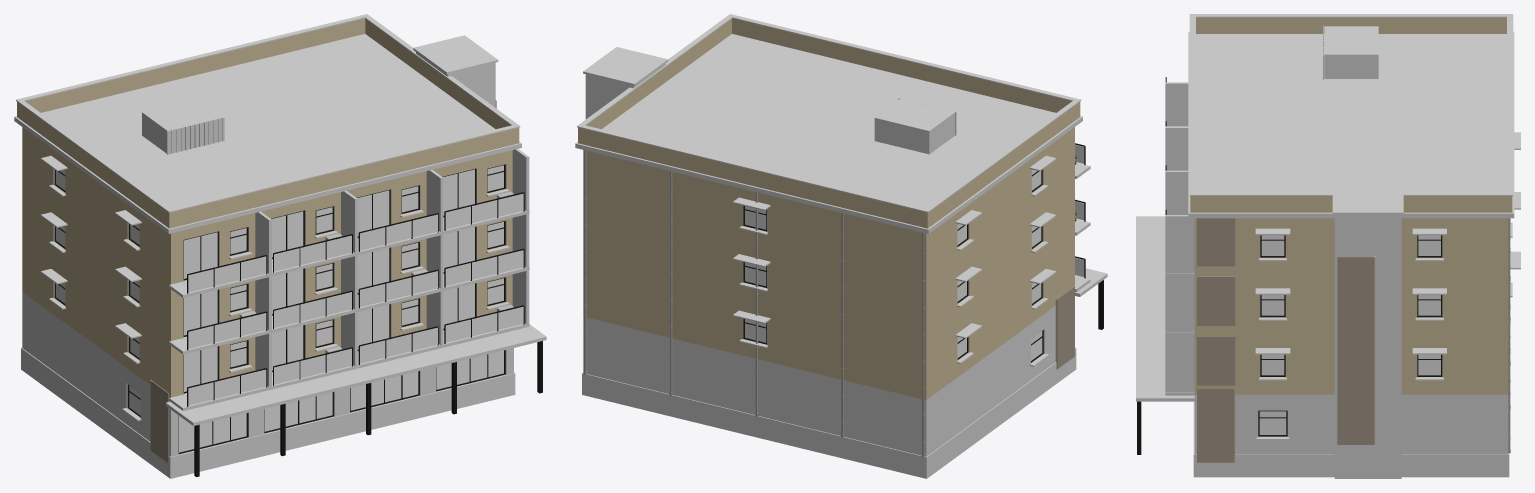
Rendered from apartment_20x15_4.glb.
The picture shows the model from 3 angles, left to right: view 1: azimuth 30°, elevation 25°; view 2: azimuth 150°, elevation 25°; view 3: azimuth 270°, elevation 25°; orthographic projection. The views are drawn at different scales.
Parts seen in each view (by area): view 1: apartment_20x15_4; view 2: apartment_20x15_4; view 3: apartment_20x15_4.
Part boxes in pixels (bbox=[...]): apartment_20x15_4: bbox=[14, 14, 546, 478]; apartment_20x15_4: bbox=[575, 14, 1107, 478]; apartment_20x15_4: bbox=[1136, 14, 1520, 478].
Bounding box in the file's own units: 23.53 × 16.05 × 18.41.
